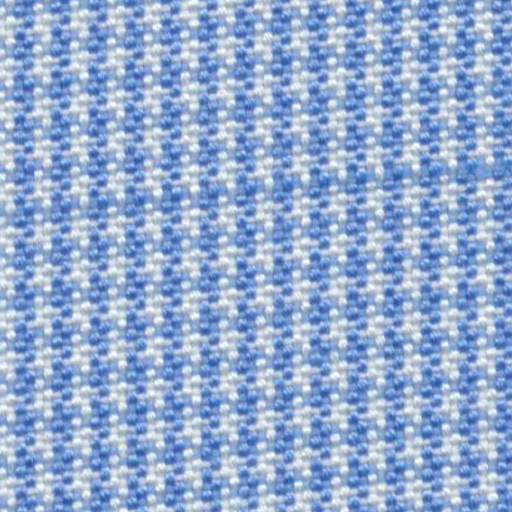TuoSha: (12, 136, 488, 270)
